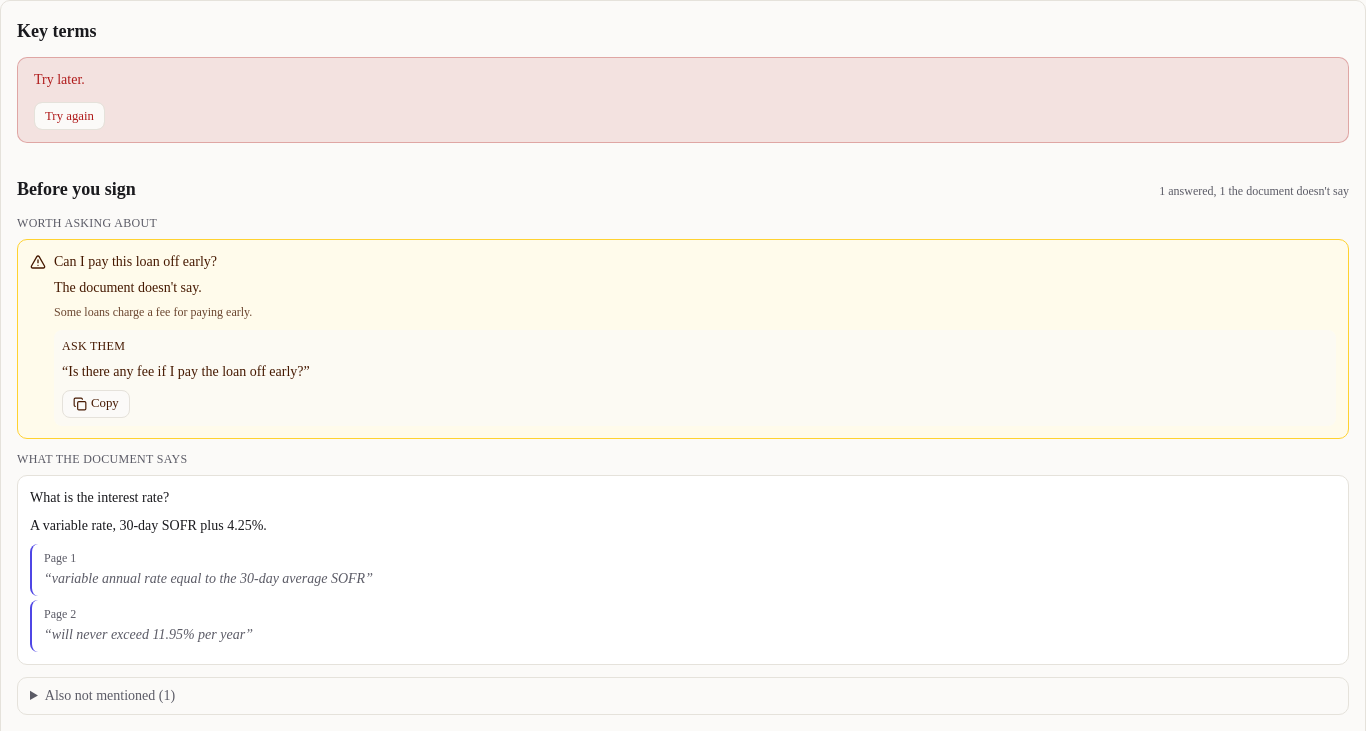
it: OverviewPanel when something fails › tries again when asked, for only the section that failed
The image size is (1366, 731).
Click the button "Try again".
click(70, 116)  # box [34,102,105,130]
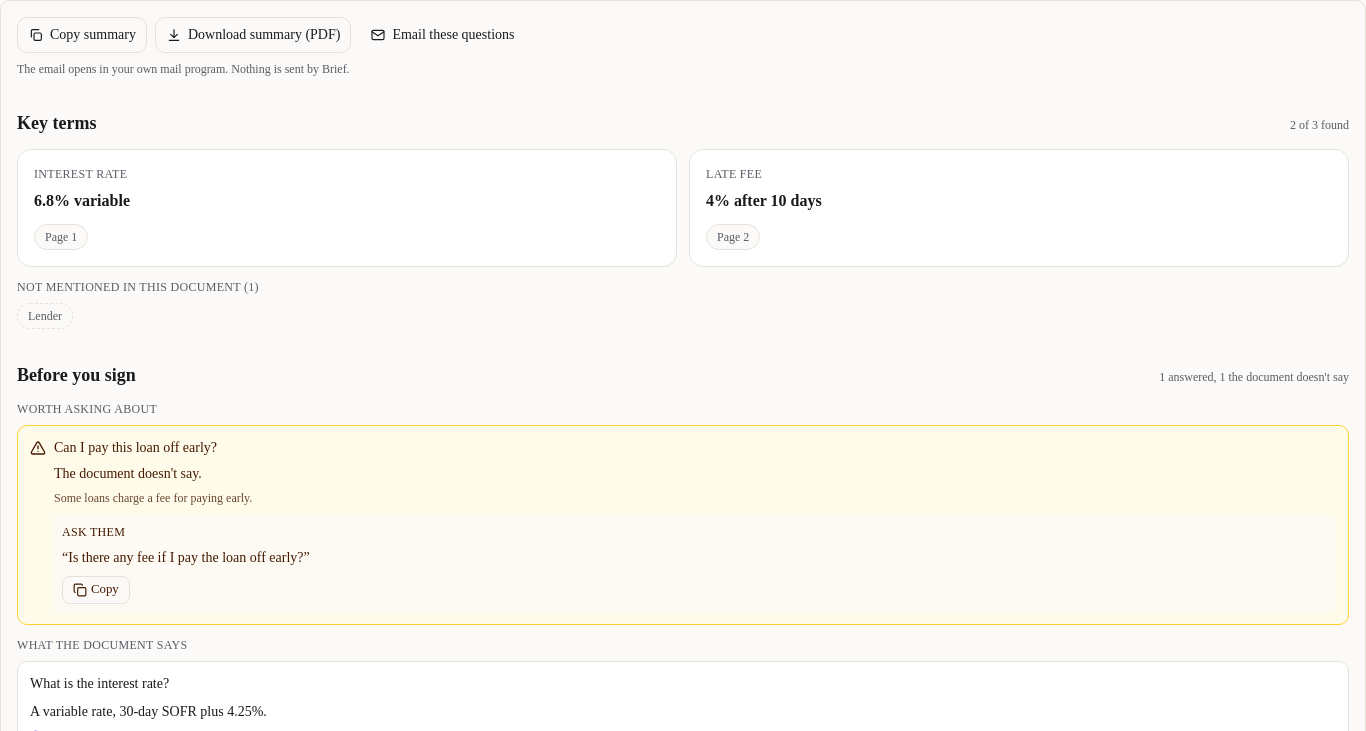
Result: the text "6.8% variable" is shown at [34,192,130,209]
